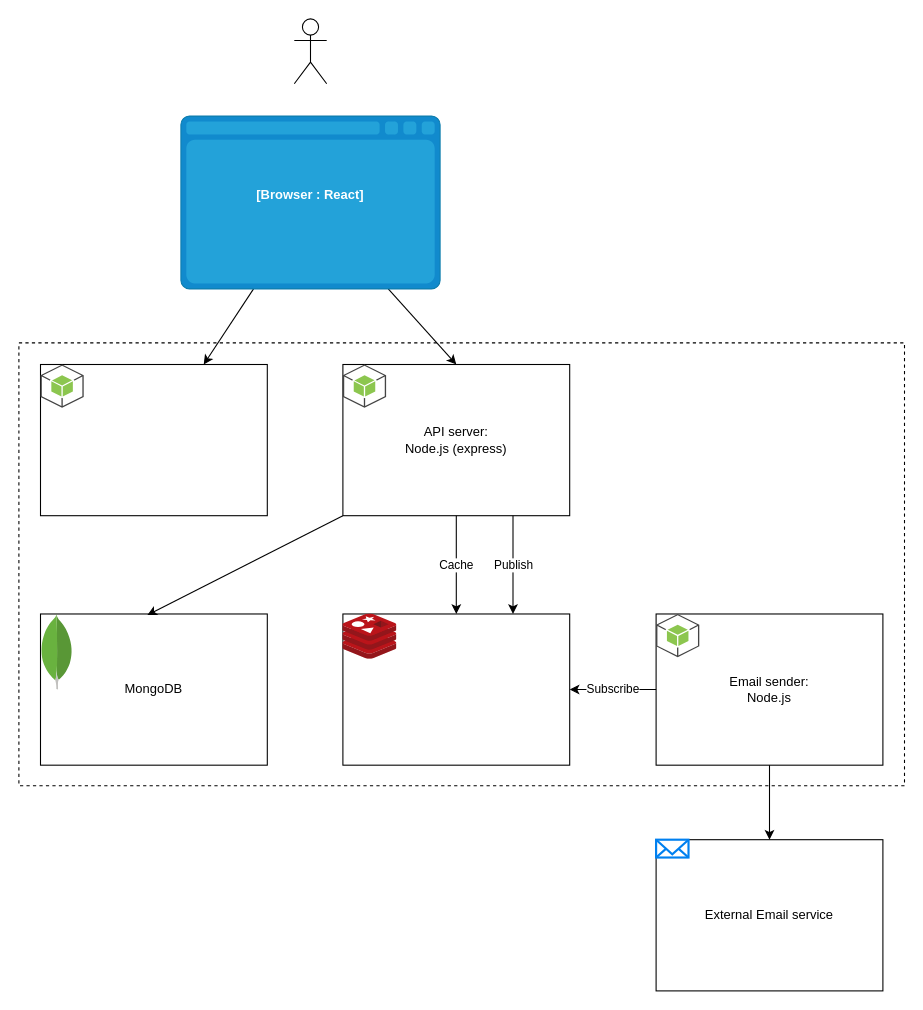
Some shapes in this 923 by 1010 pixel diagram are drawn without their labels. The box of each missing label's shape, as (x1, y1, x2, y2) in pixels:
Frontend Webserver: Node.js (react-scripts): (39, 363, 267, 516)
Redis: Cache and Messaging: (342, 613, 570, 765)
